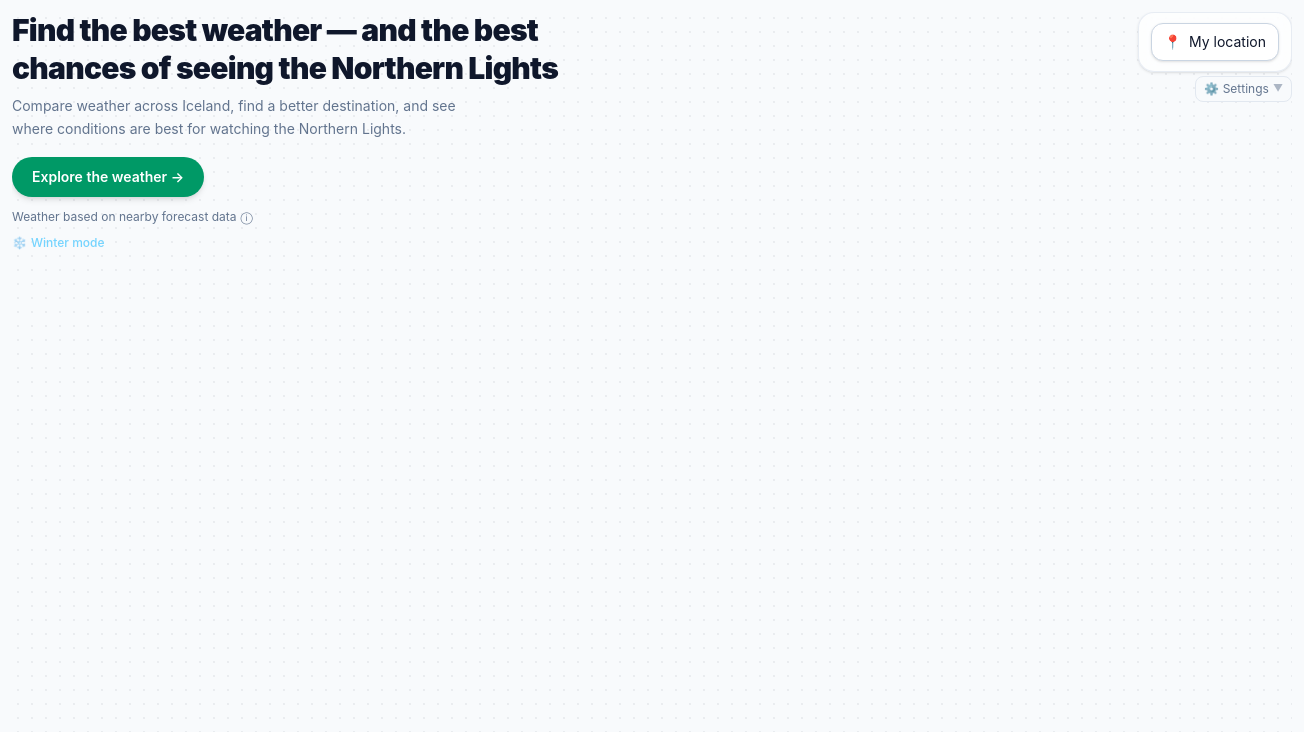
Toolbar logout row › closes the panel and returns focus to the Settings toggle after a successful logout
Click the button "⚙ Settings ▼". click: coordinates (1243, 89)
box: [1195,76,1292,102]
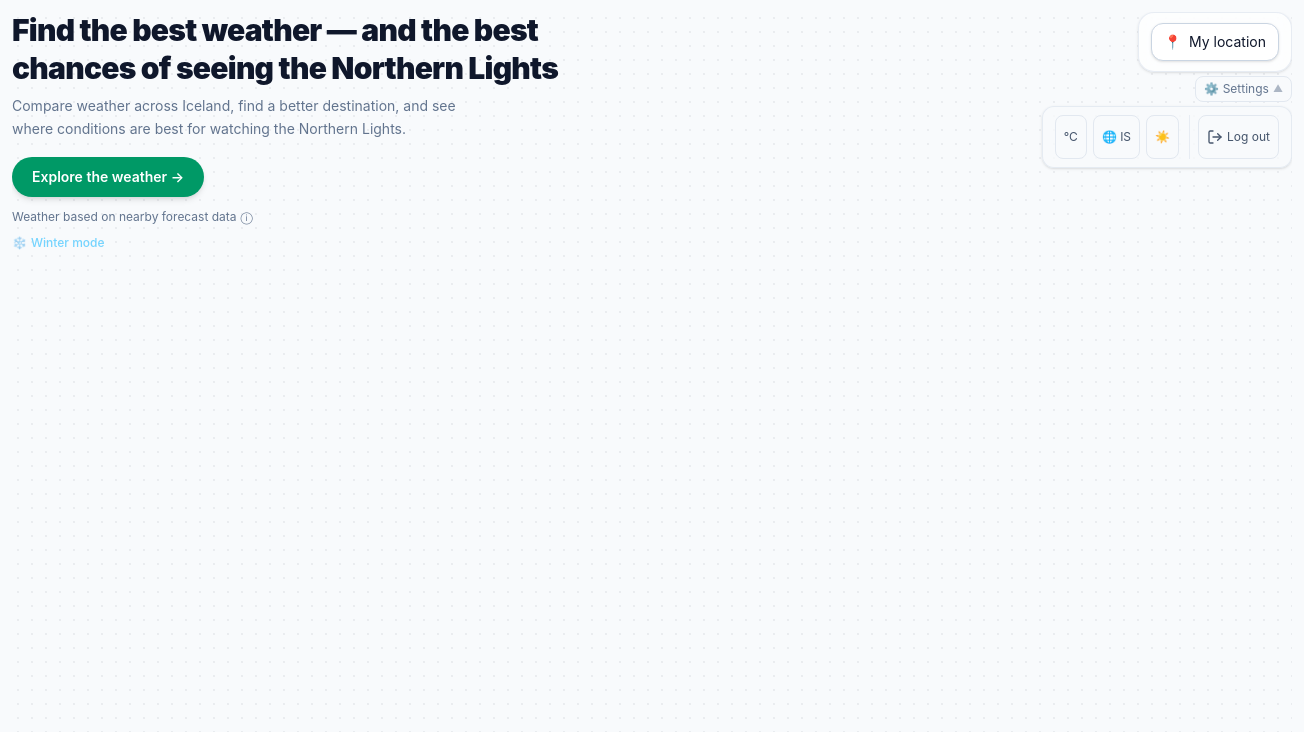
Click the button "Log out". click: coordinates (1239, 137)
box: [1198,115,1279,159]
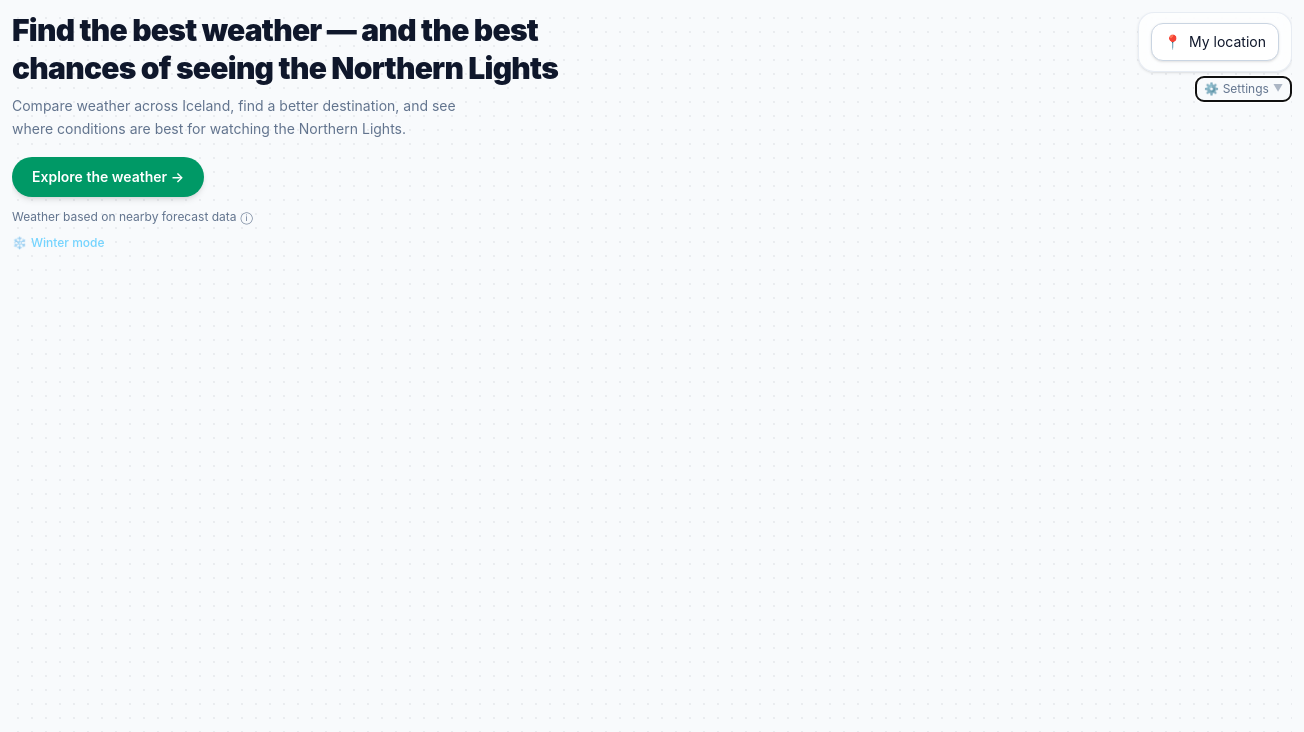
expect the element with id "toolbar-settings-panel" is gone: met
